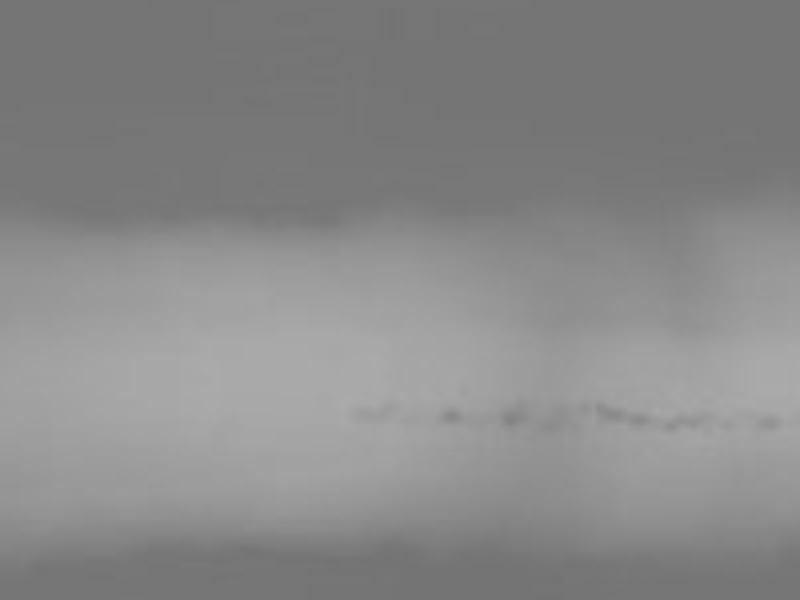defect: (589, 398, 653, 434), (346, 396, 405, 428), (659, 410, 714, 442), (536, 399, 577, 437), (499, 391, 533, 426), (751, 407, 781, 433), (440, 406, 466, 433), (581, 401, 590, 414)
